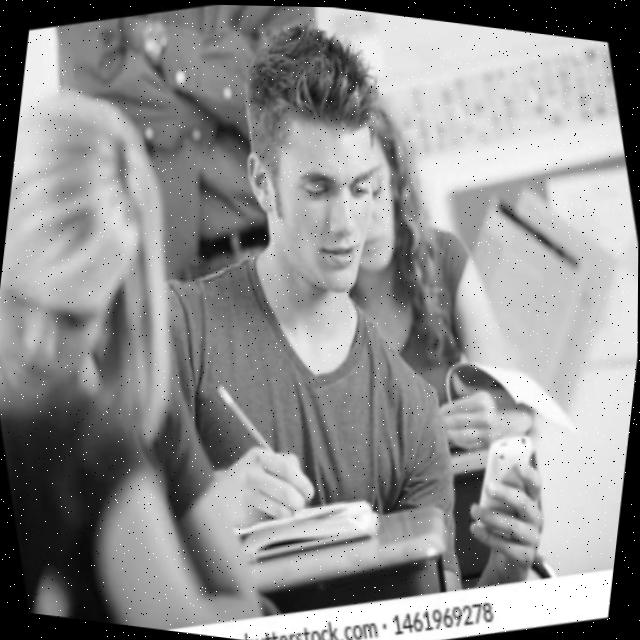phone: (456, 421, 558, 547)
